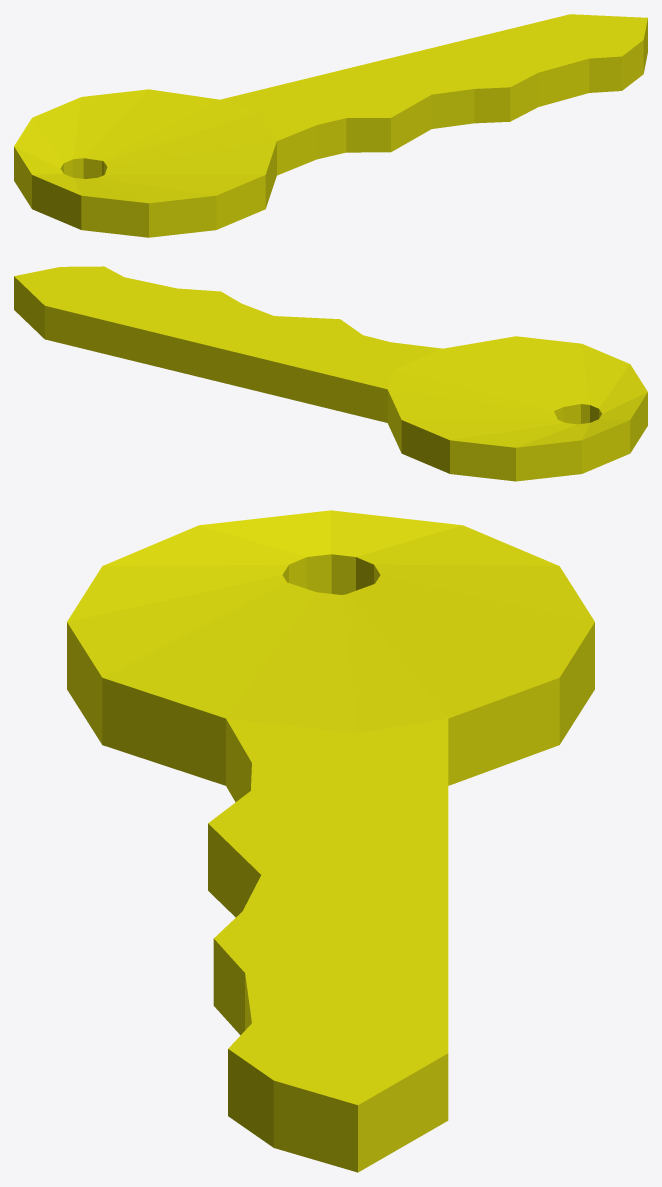
File: Chave.fbx
The picture shows the model from 3 angles, top to bottom: view 1: azimuth 30°, elevation 25°; view 2: azimuth 150°, elevation 25°; view 3: azimuth 270°, elevation 25°; orthographic projection. The views are drawn at different scales.
Parts seen in each view (by area): view 1: Cube; view 2: Cube; view 3: Cube.
Part boxes in pixels (x1,y1,x2,y2): Cube: (14,14,647,237); Cube: (14,266,647,481); Cube: (67,510,594,1172).
Size of the model in its own units: 533 by 28.17 by 200.
